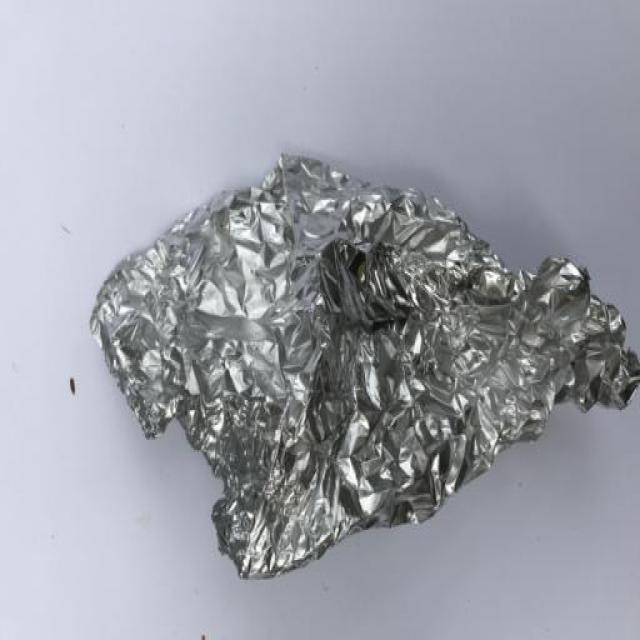others: (97, 131, 640, 591)
